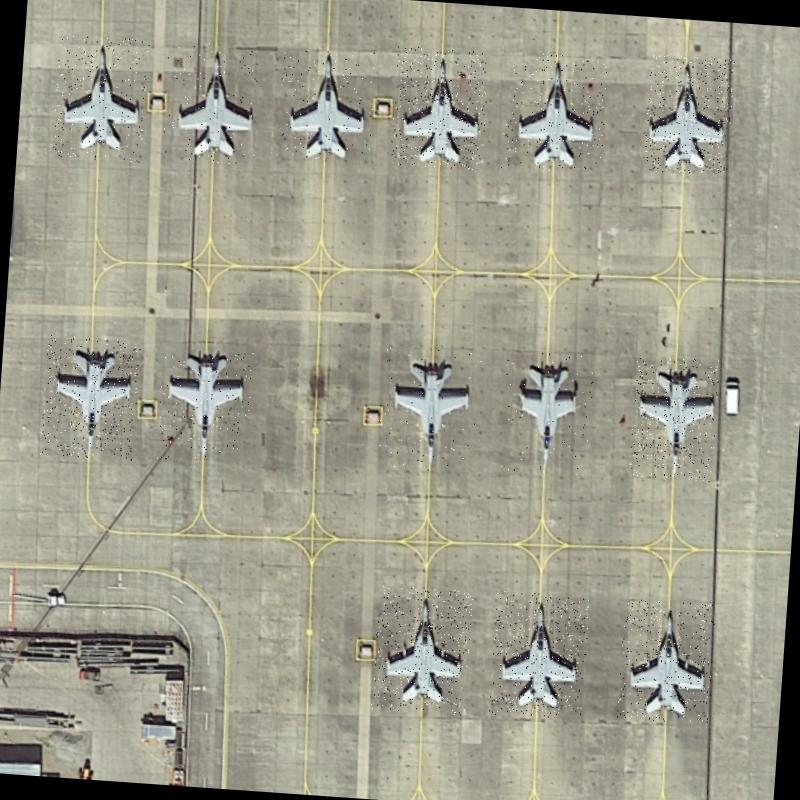A16: (376, 342, 482, 474), (500, 50, 608, 174), (370, 584, 472, 715), (488, 590, 590, 720), (50, 34, 150, 162), (160, 40, 262, 165), (40, 334, 140, 461), (616, 598, 716, 724), (389, 45, 489, 170), (498, 349, 594, 478), (276, 44, 376, 162), (628, 354, 720, 481), (155, 346, 253, 464), (642, 53, 734, 176)
